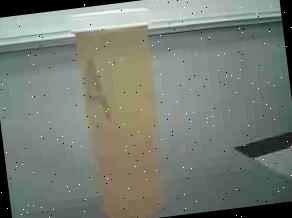Bottle A: (58, 0, 188, 218)
